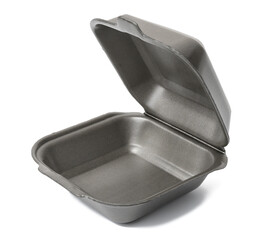styrofoam: (31, 14, 232, 226)
